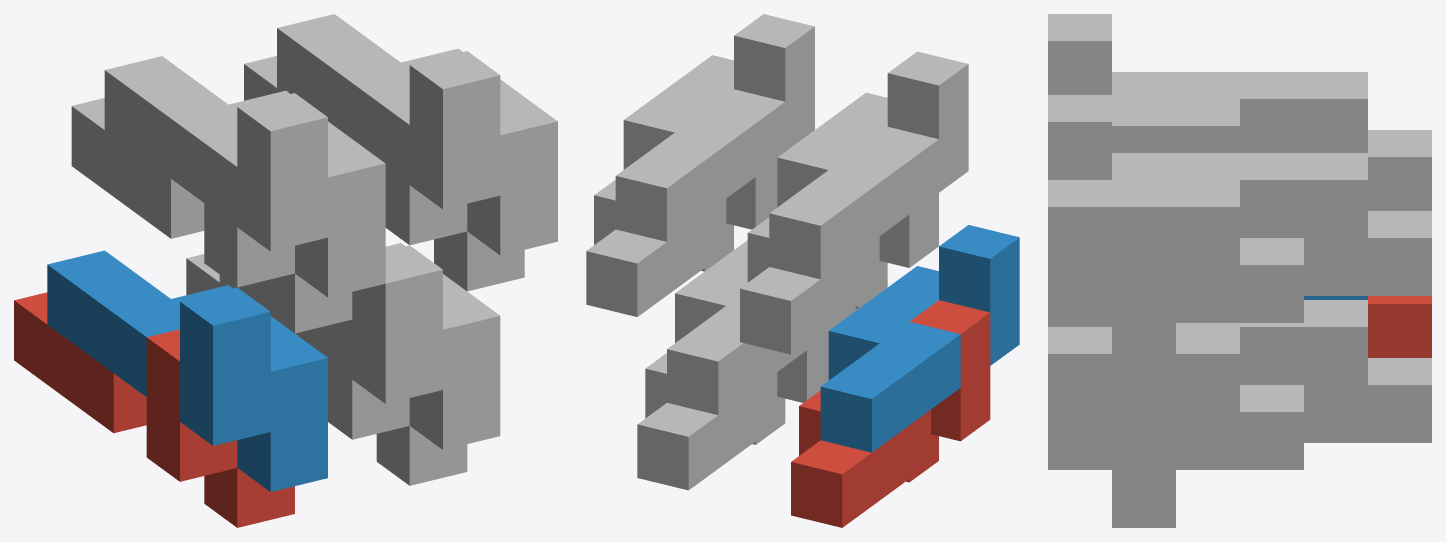
The model's file is tiling.obj.
3 views of the same model, side by side, from view 1: azimuth 30°, elevation 25°; view 2: azimuth 150°, elevation 25°; view 3: azimuth 270°, elevation 25° (orthographic). The views are drawn at different scales.
Parts seen in each view (by area): view 1: copy_1_domain_4, copy_1_domain_2, copy_1_domain_8, copy_1_domain_6, copy_1_domain_1, copy_1_domain_3, copy_1_domain_7, copy_1_domain_5; view 2: copy_1_domain_4, copy_1_domain_2, copy_1_domain_8, copy_1_domain_1, copy_1_domain_3, copy_1_domain_7, copy_1_domain_5, copy_1_domain_6; view 3: copy_1_domain_8, copy_1_domain_7, copy_1_domain_6, copy_1_domain_5, copy_1_domain_4, copy_1_domain_3, copy_1_domain_1.
Part boxes in pixels (x1=…): copy_1_domain_4: x1=104, y1=56, x2=385, y2=297; copy_1_domain_2: x1=47, y1=250, x2=327, y2=491; copy_1_domain_8: x1=277, y1=14, x2=557, y2=255; copy_1_domain_6: x1=219, y1=243, x2=500, y2=449; copy_1_domain_1: x1=14, y1=292, x2=294, y2=527; copy_1_domain_3: x1=71, y1=98, x2=352, y2=333; copy_1_domain_7: x1=244, y1=56, x2=524, y2=291; copy_1_domain_5: x1=186, y1=254, x2=467, y2=485; copy_1_domain_4: x1=769, y1=51, x2=968, y2=279; copy_1_domain_2: x1=820, y1=225, x2=1019, y2=452; copy_1_domain_8: x1=615, y1=14, x2=814, y2=241; copy_1_domain_1: x1=791, y1=300, x2=990, y2=527; copy_1_domain_3: x1=740, y1=127, x2=938, y2=354; copy_1_domain_7: x1=586, y1=89, x2=785, y2=316; copy_1_domain_5: x1=637, y1=321, x2=836, y2=490; copy_1_domain_6: x1=667, y1=240, x2=857, y2=414; copy_1_domain_8: x1=1048, y1=95, x2=1367, y2=322; copy_1_domain_7: x1=1112, y1=153, x2=1431, y2=380; copy_1_domain_6: x1=1048, y1=300, x2=1367, y2=469; copy_1_domain_5: x1=1112, y1=358, x2=1431, y2=527; copy_1_domain_4: x1=1048, y1=14, x2=1367, y2=152; copy_1_domain_3: x1=1112, y1=72, x2=1431, y2=210; copy_1_domain_1: x1=1368, y1=296, x2=1431, y2=357.
Size of the model in its own units: 6 by 7 by 6.
